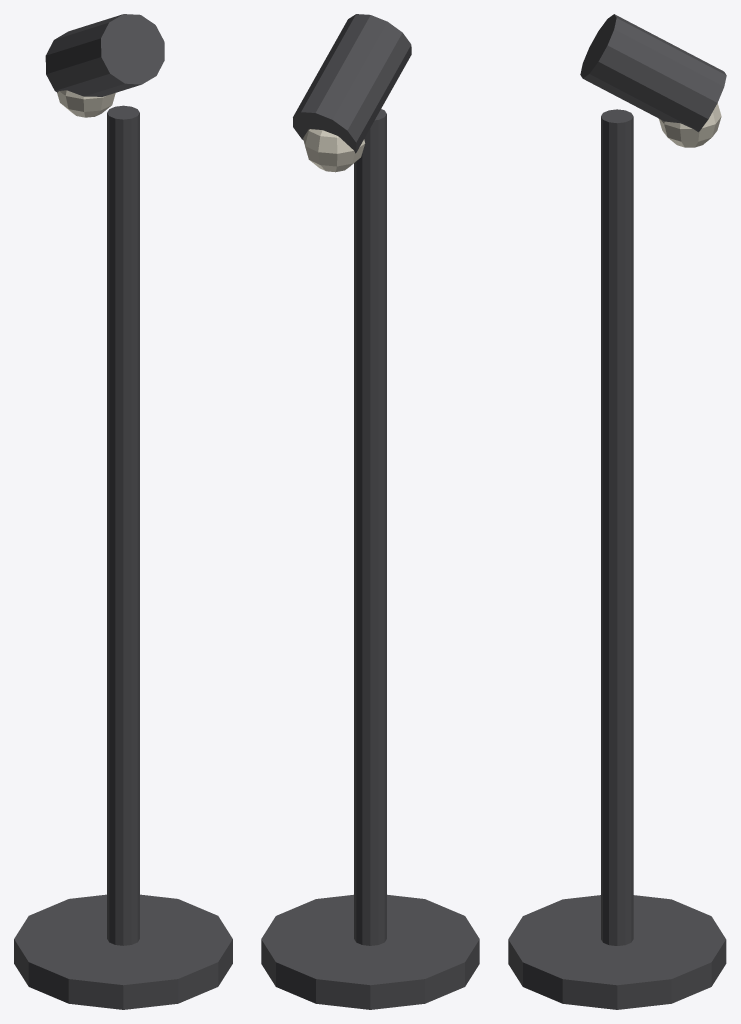
Rendered from ilu_haste_preta.glb.
The picture shows the model from 3 angles, left to right: view 1: azimuth 30°, elevation 25°; view 2: azimuth 150°, elevation 25°; view 3: azimuth 270°, elevation 25°; orthographic projection.
Visible parts, largest first — view 1: ILU_Haste_Preta_v01; view 2: ILU_Haste_Preta_v01; view 3: ILU_Haste_Preta_v01.
Boxes of the visible parts, bbox=[...] form: ILU_Haste_Preta_v01: bbox=[14, 14, 232, 1009]; ILU_Haste_Preta_v01: bbox=[261, 14, 479, 1009]; ILU_Haste_Preta_v01: bbox=[508, 14, 726, 1009].
Size of the model in its own units: 0.24 by 1.15 by 0.2406.
